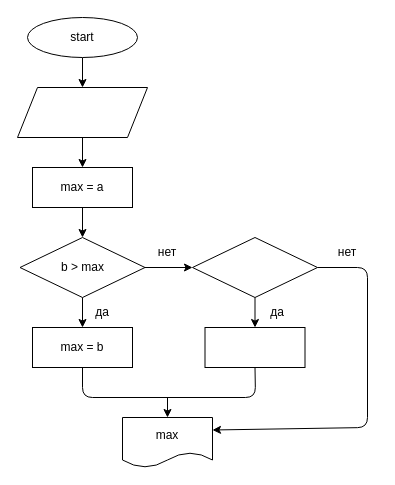
Some shapes in this 395 by 485 pixel diagram are drawn without their labels. Here are the shapes that lost their labels. From the top down, the centre of each, then its label:
At (x=82, y=112): "a = 2, b = 3, c = 7".
At (x=255, y=267): "c > max".
At (x=254, y=347): "max = с".
